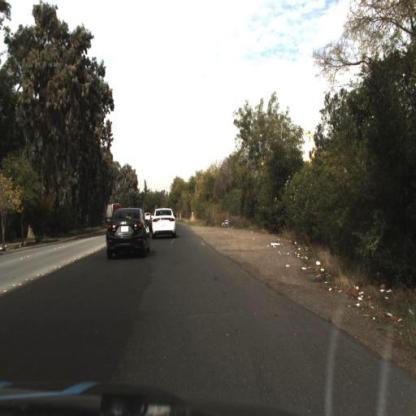car: (106, 208, 152, 263), (148, 204, 178, 247), (152, 208, 179, 239)
